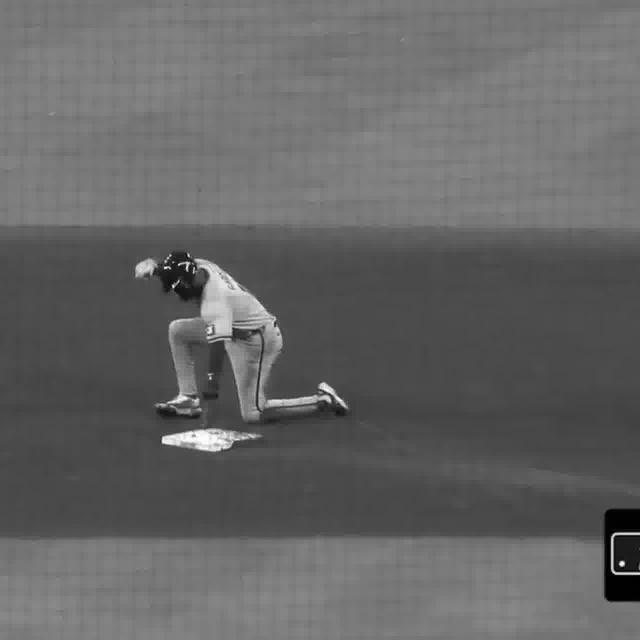base: (160, 428, 264, 454)
shoe: (316, 381, 350, 416), (156, 394, 201, 414)
